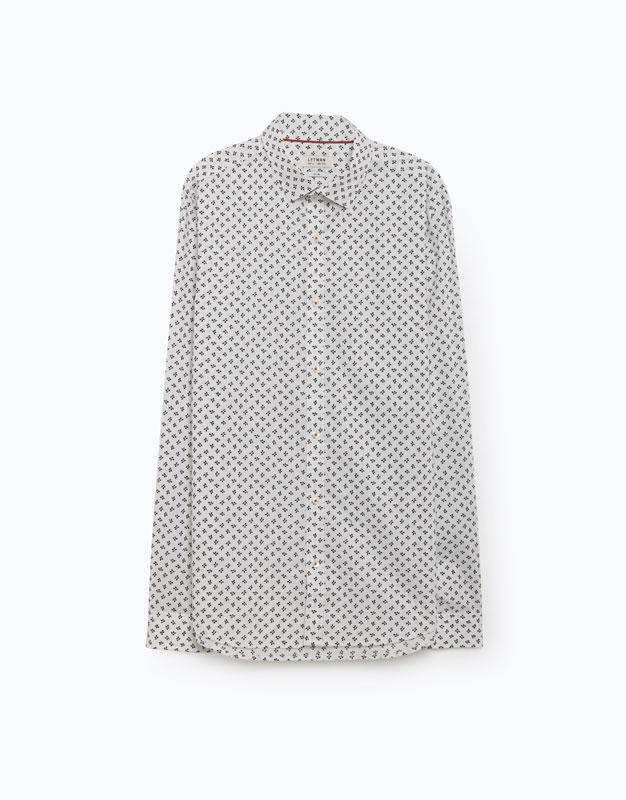teeshirt: (142, 106, 496, 666)
